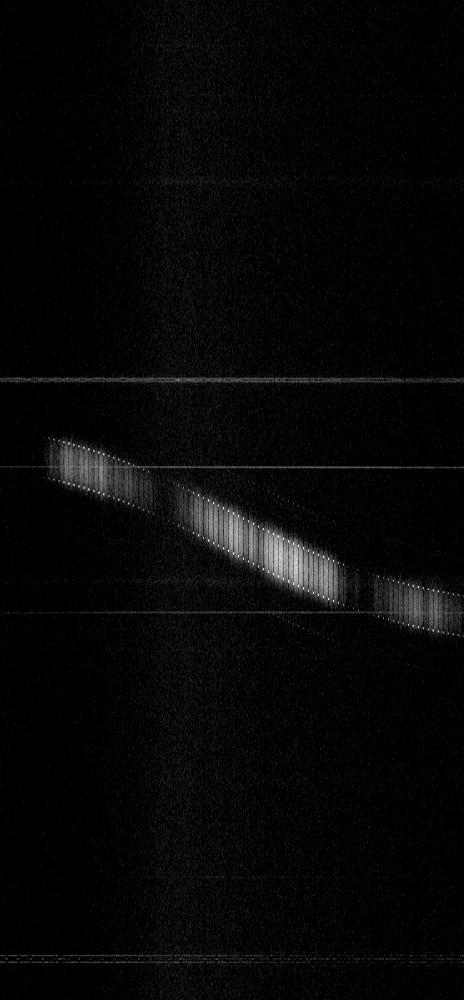signal: (0, 0, 463, 999)
